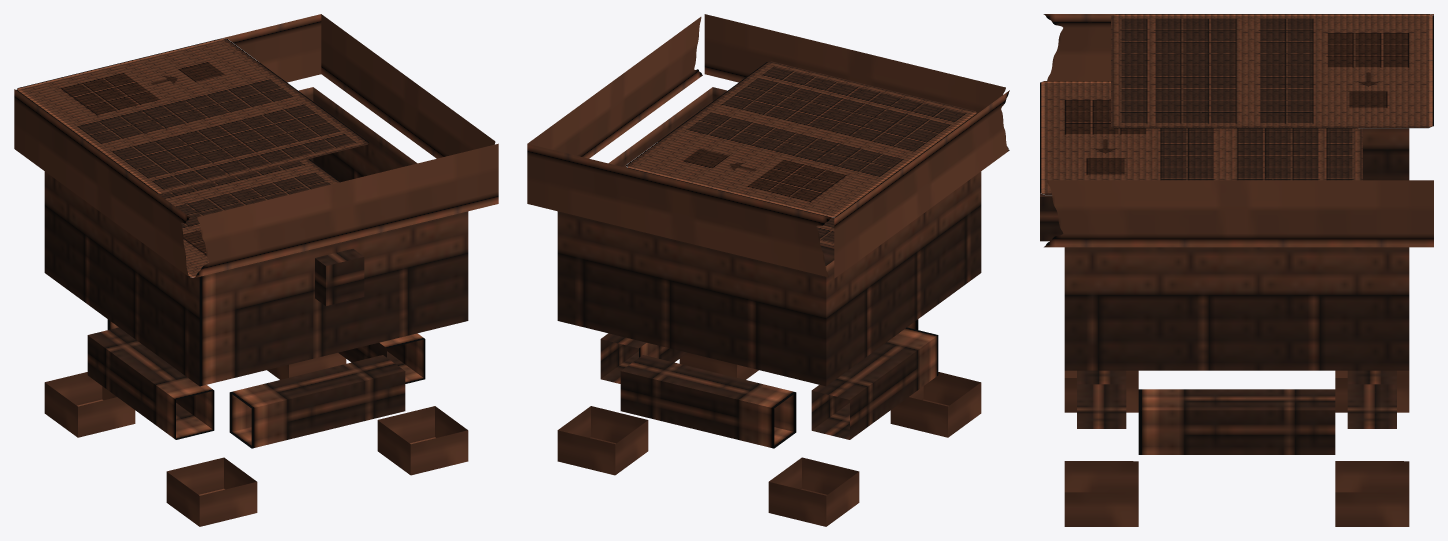
File: craftingtable.obj
3 views of the same model, side by side, from view 1: azimuth 30°, elevation 25°; view 2: azimuth 150°, elevation 25°; view 3: azimuth 270°, elevation 25° (orthographic). The views are drawn at different scales.
Visible parts, largest first — view 1: desk; view 2: desk; view 3: desk.
Part boxes in pixels (x1,y1,x2,y2): desk: (14, 14, 498, 526); desk: (527, 14, 1009, 526); desk: (1040, 14, 1433, 526).
Size of the model in its own units: 1 by 1 by 1.
